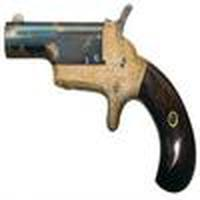gun: (5, 14, 196, 196)
